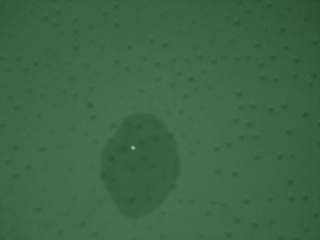Water_detected: (100, 129, 161, 203)
